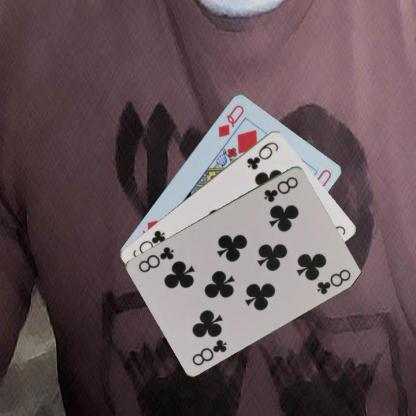6c: (244, 139, 280, 171)
8c: (189, 336, 228, 367), (261, 174, 300, 204)
Qd: (215, 101, 245, 138)
